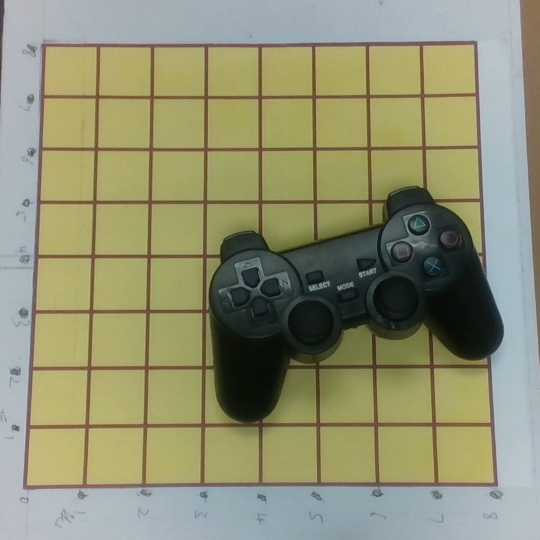remote: (208, 184, 505, 419)
